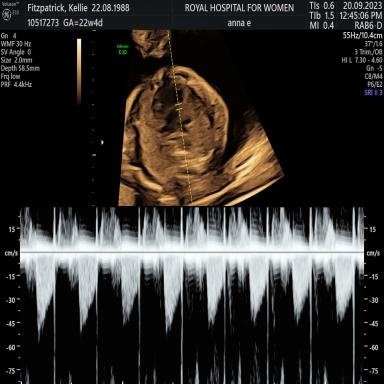Ultrasound-Waves: (25, 206, 357, 384)
